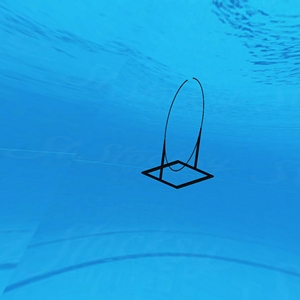circle: (141, 76, 217, 192)
